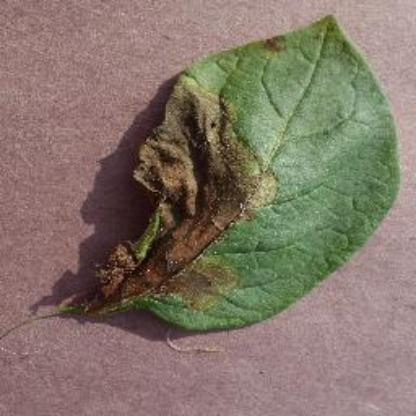Late-Blight: (64, 13, 416, 382)
